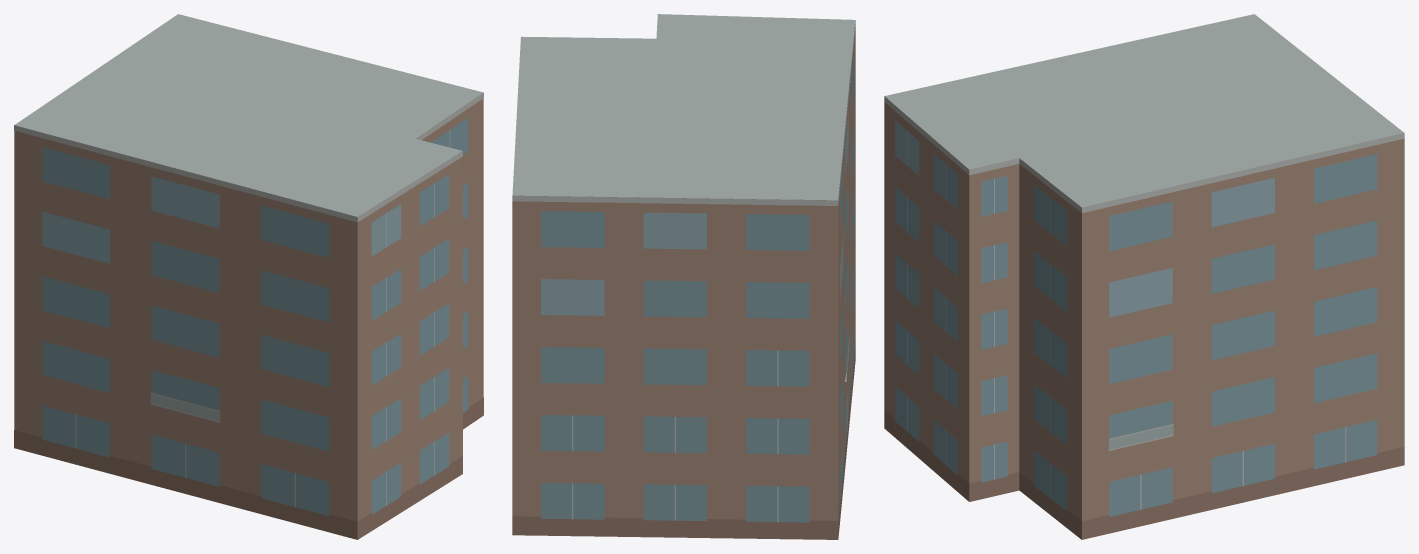
The model's file is survey-upis-32843338.glb.
3 renders of one model, left to right at view 1: azimuth 30°, elevation 25°; view 2: azimuth 150°, elevation 25°; view 3: azimuth 270°, elevation 25°, orthographic. The views are drawn at different scales.
Visible parts, largest first — view 1: survey-upis-32843338.tmp; view 2: survey-upis-32843338.tmp; view 3: survey-upis-32843338.tmp.
Boxes of the visible parts, bbox=[...] form: survey-upis-32843338.tmp: bbox=[14, 14, 483, 539]; survey-upis-32843338.tmp: bbox=[512, 14, 855, 539]; survey-upis-32843338.tmp: bbox=[884, 14, 1404, 539].
Bounding box in the file's own units: 18.07 × 14.45 × 20.51.
